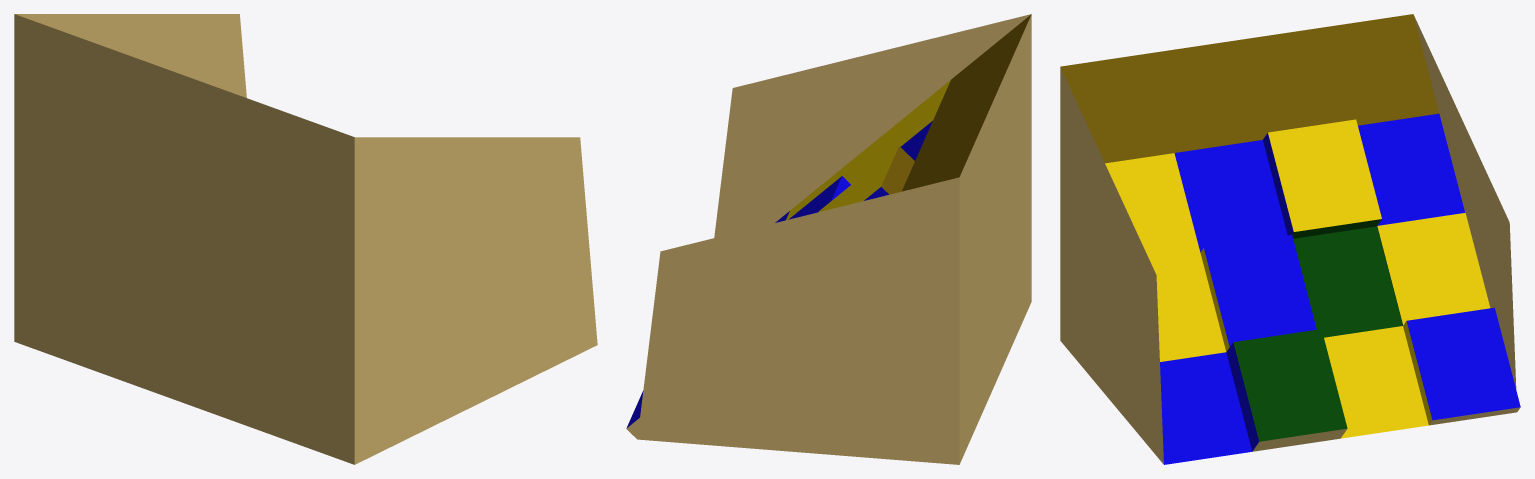
Rendered from libcatalogue.fbx.
3 renders of one model, left to right at view 1: azimuth 30°, elevation 25°; view 2: azimuth 150°, elevation 25°; view 3: azimuth 270°, elevation 25°, orthographic. The views are drawn at different scales.
Parts seen in each view (by area): view 1: LibStand; view 2: LibStand; view 3: LibStand.
Part boxes in pixels (x1,y1,x2,y2): LibStand: (14,14,597,464); LibStand: (626,14,1031,464); LibStand: (1060,14,1520,464).
Bounding box in the file's own units: 277 × 200 × 305.
